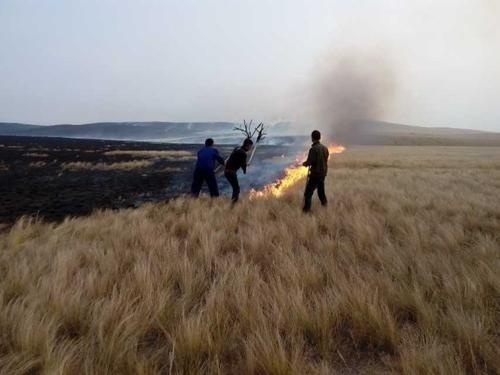fire: (243, 137, 347, 198)
